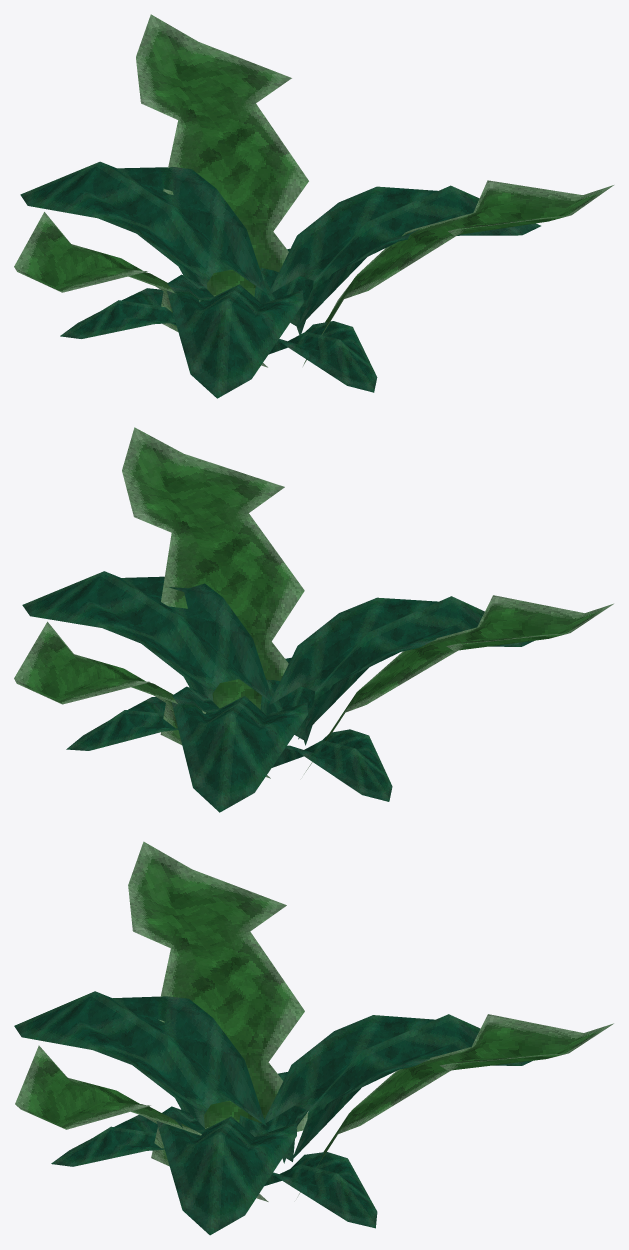
The model's file is grass_04.glb.
The picture shows the model from 3 angles, top to bottom: view 1: azimuth 30°, elevation 25°; view 2: azimuth 150°, elevation 25°; view 3: azimuth 270°, elevation 25°; orthographic projection. The views are drawn at different scales.
Parts seen in each view (by area): view 1: GRASS_04; view 2: GRASS_04; view 3: GRASS_04.
Part boxes in pixels (x1=…): GRASS_04: x1=14, y1=14, x2=613, y2=398; GRASS_04: x1=14, y1=427, x2=613, y2=812; GRASS_04: x1=14, y1=841, x2=613, y2=1235.
Bounding box in the file's own units: 1.28 × 0.4 × 1.17.
1 material, 1 textured.
